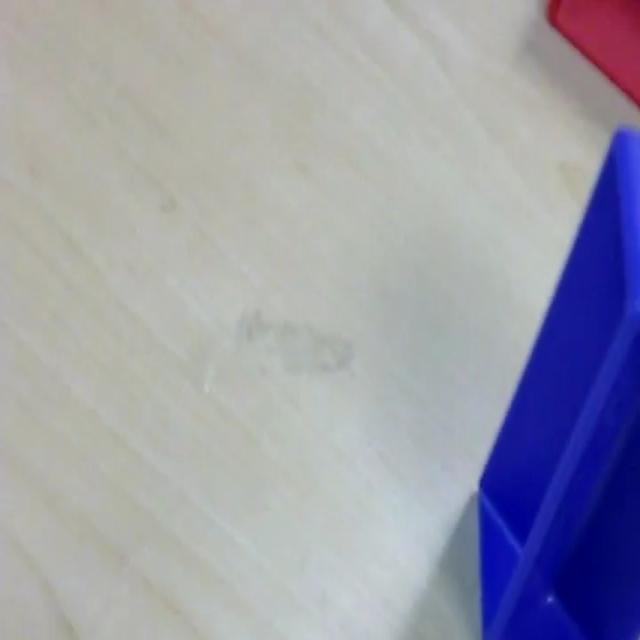blue_block: (476, 123, 638, 636)
